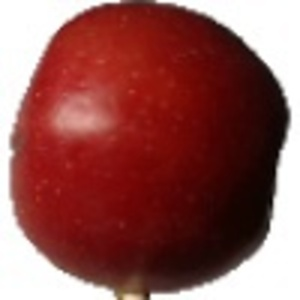maçã braeburn: (9, 1, 291, 288)
